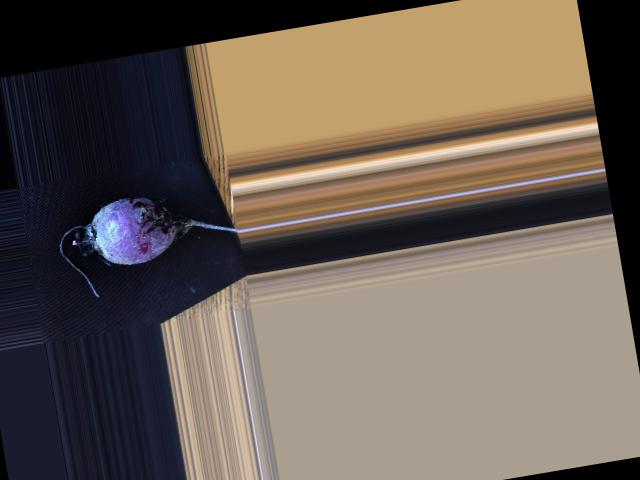beet: (53, 179, 247, 302)
